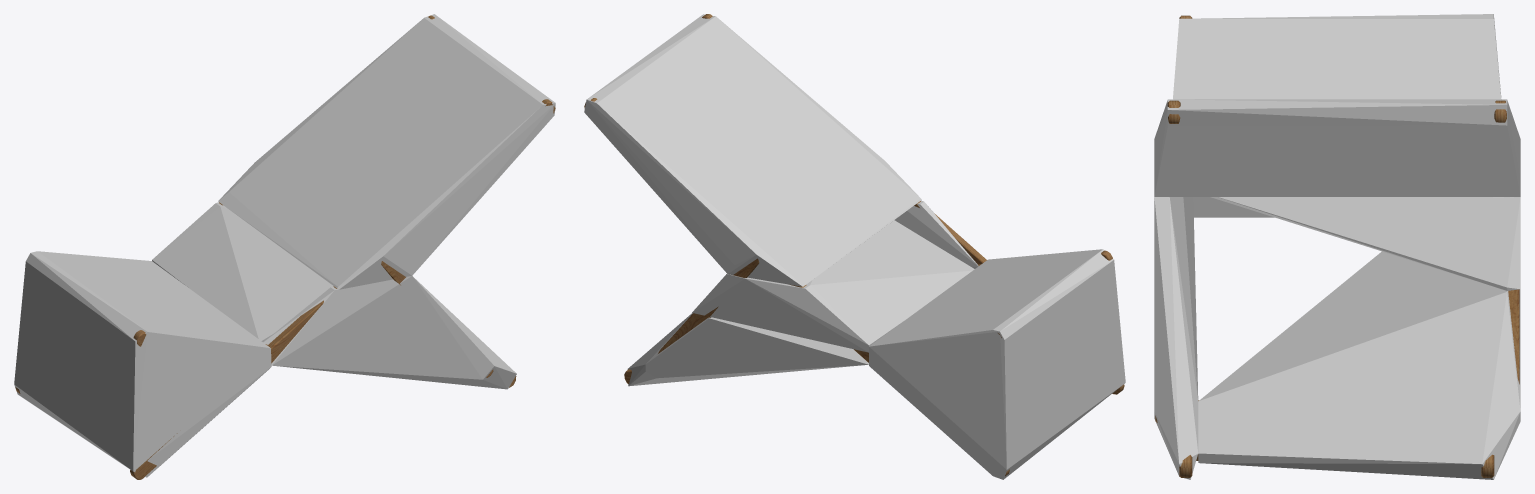
File: SM_sunchair.fbx
The picture shows the model from 3 angles, left to right: view 1: azimuth 30°, elevation 25°; view 2: azimuth 150°, elevation 25°; view 3: azimuth 270°, elevation 25°; orthographic projection. The views are drawn at different scales.
Visible parts, largest first — view 1: SM_sunchair_ConvexHulls, SM_sunchair; view 2: SM_sunchair_ConvexHulls, SM_sunchair; view 3: SM_sunchair_ConvexHulls, SM_sunchair.
Part boxes in pixels (x1=…): SM_sunchair_ConvexHulls: x1=14, y1=14, x2=555, y2=477; SM_sunchair: x1=15, y1=15, x2=555, y2=479; SM_sunchair_ConvexHulls: x1=584, y1=14, x2=1125, y2=479; SM_sunchair: x1=584, y1=14, x2=1124, y2=476; SM_sunchair_ConvexHulls: x1=1154, y1=14, x2=1520, y2=479; SM_sunchair: x1=1155, y1=15, x2=1519, y2=477.
Bounding box in the file's own units: 138 × 72.35 × 87.42.
Materials: 4 (3 with a texture image).
